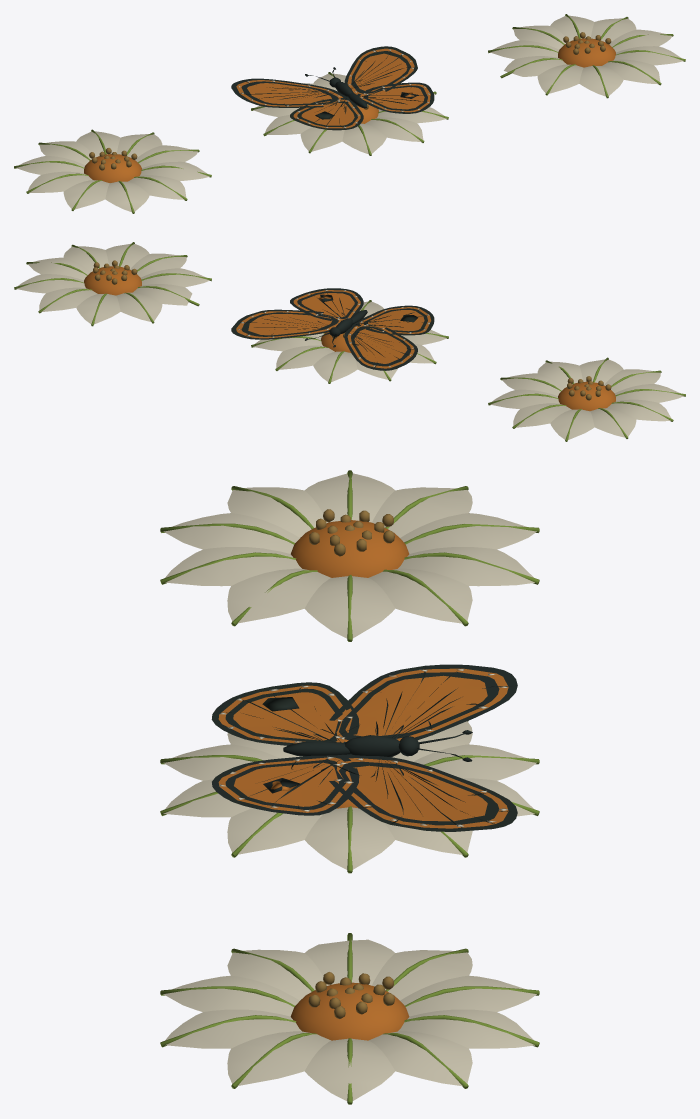
3 views of the same model, one above another, from view 1: azimuth 30°, elevation 25°; view 2: azimuth 150°, elevation 25°; view 3: azimuth 270°, elevation 25° (orthographic). The views are drawn at different scales.
Parts seen in each view (by area): view 1: B12_SPEC_Chitin_export; view 2: B12_SPEC_Chitin_export; view 3: B12_SPEC_Chitin_export.
Part boxes in pixels (x1,y1,x2,y2): B12_SPEC_Chitin_export: (14, 14, 685, 213); B12_SPEC_Chitin_export: (14, 242, 685, 441); B12_SPEC_Chitin_export: (160, 470, 539, 1104).
Bounding box in the file's own units: 2.18 × 0.1486 × 0.5543.
